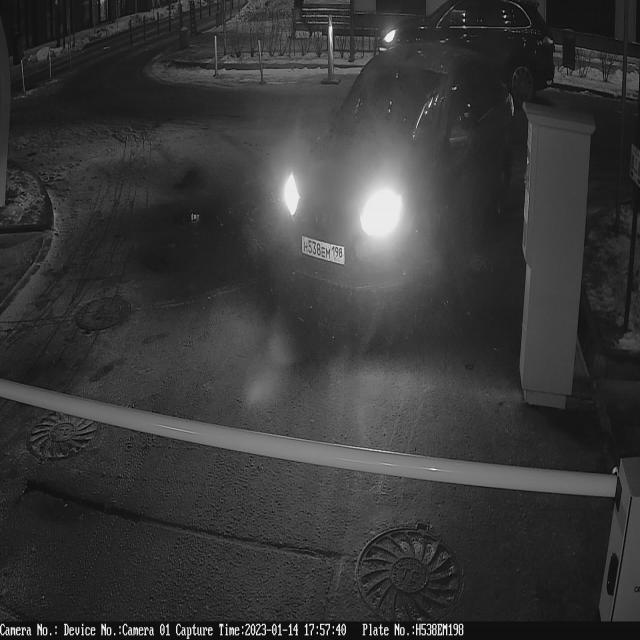car-plate-numbers: (300, 231, 350, 273)
